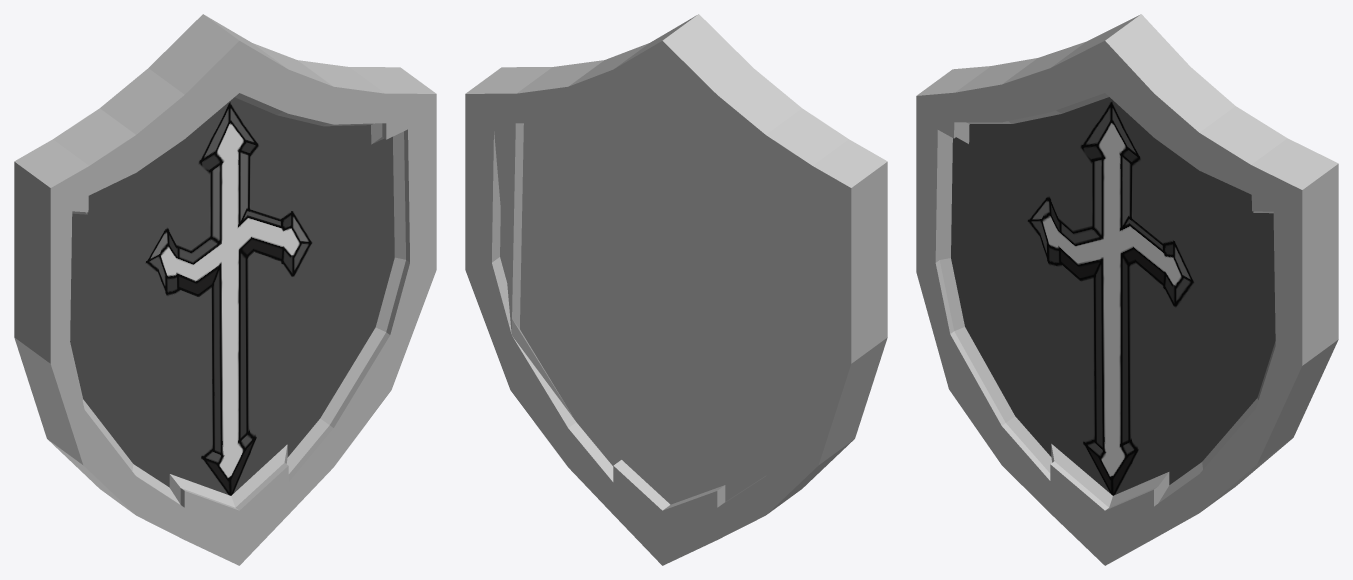
The model's file is Shield.fbx.
3 views of the same model, side by side, from view 1: azimuth 30°, elevation 25°; view 2: azimuth 150°, elevation 25°; view 3: azimuth 330°, elevation 25° (orthographic).
Visible parts, largest first — view 1: Shield; view 2: Shield; view 3: Shield.
Part boxes in pixels (left/top/right/bottom): Shield: left=14, top=14, right=436, bottom=565; Shield: left=465, top=14, right=887, bottom=565; Shield: left=916, top=14, right=1338, bottom=565.
Size of the model in its own units: 1 by 1.3 by 0.1635.
